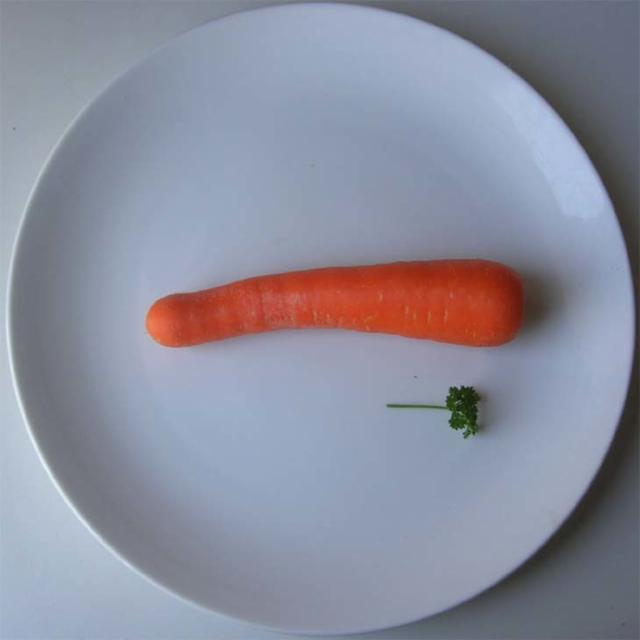Carrot: (146, 256, 530, 349)
